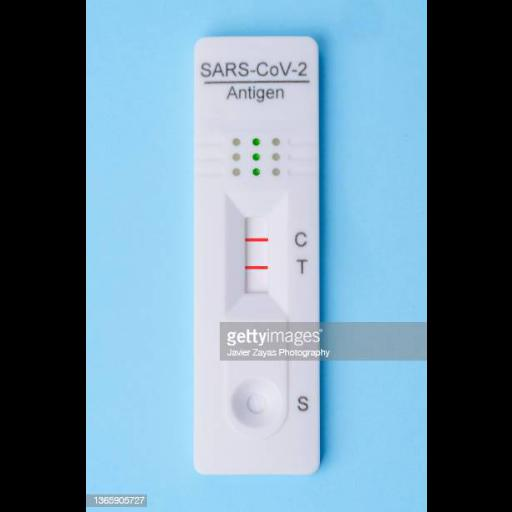Pos: (192, 35, 316, 473)
